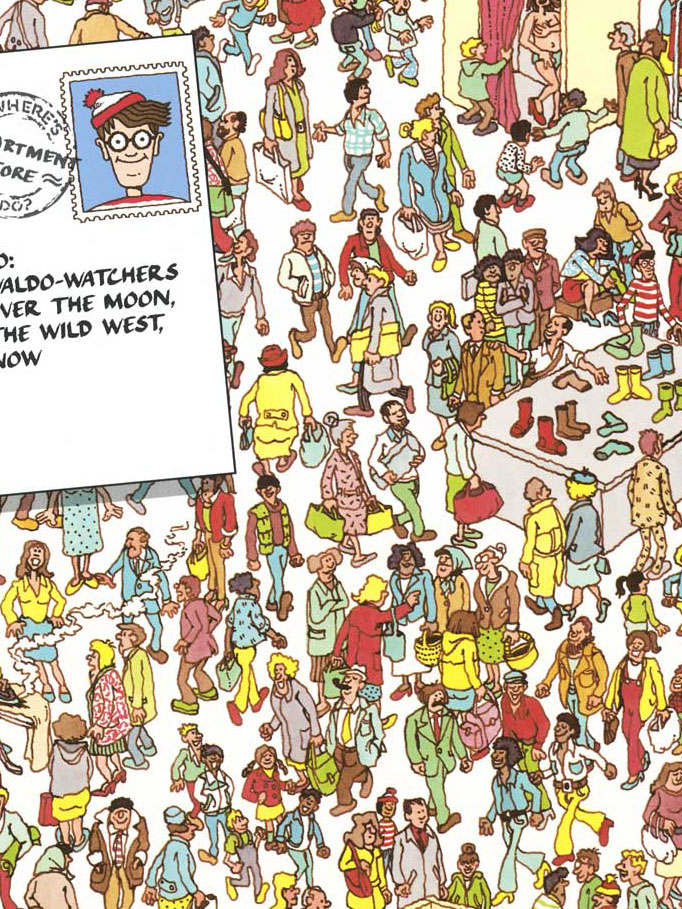waldo: (82, 86, 169, 187), (633, 250, 657, 280)
